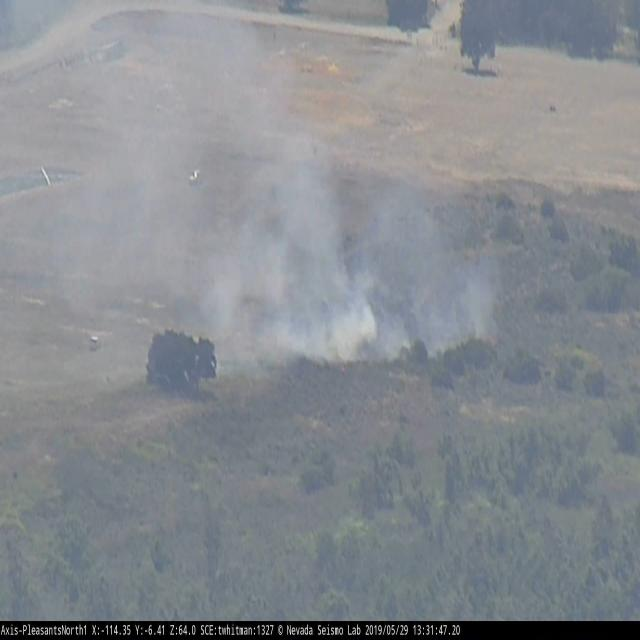smoke: (200, 143, 494, 362)
